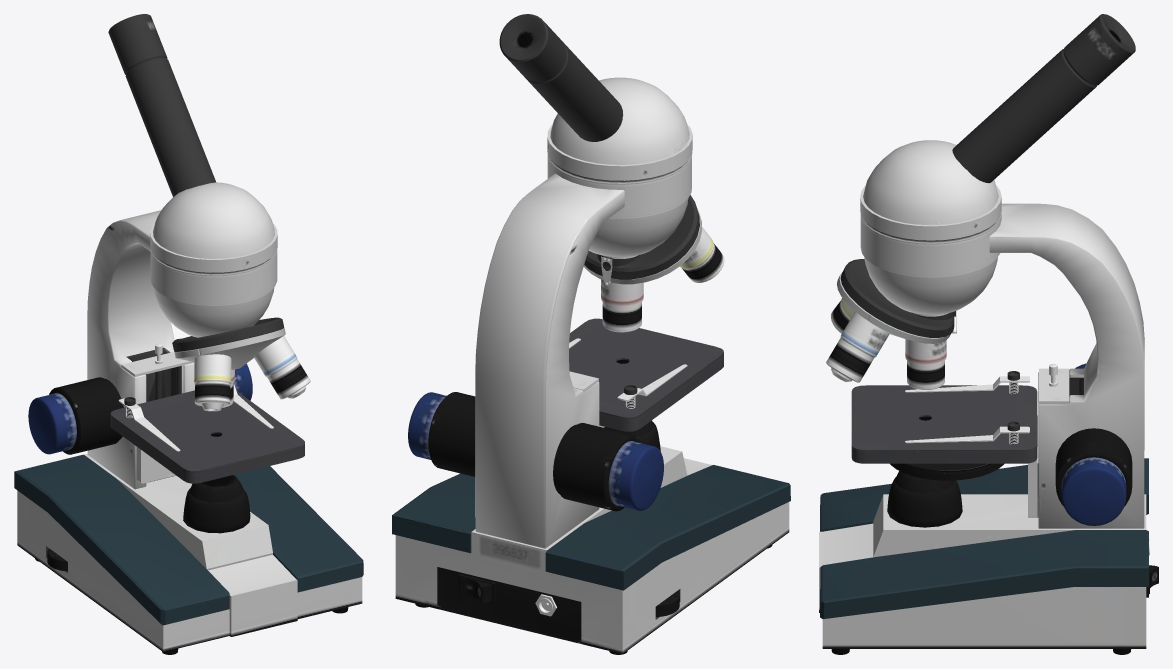
File: microscope.glb
3 renders of one model, left to right at view 1: azimuth 30°, elevation 25°; view 2: azimuth 150°, elevation 25°; view 3: azimuth 270°, elevation 25°, orthographic. The views are drawn at different scales.
Parts seen in each view (by area): view 1: Microscope; view 2: Microscope; view 3: Microscope.
Part boxes in pixels (x1,y1,x2,y2): Microscope: (14,14,363,654); Microscope: (392,14,790,654); Microscope: (819,14,1158,654).
Size of the model in its own units: 0.1645 by 0.4 by 0.2096.
Materials: 1 (1 with a texture image).
